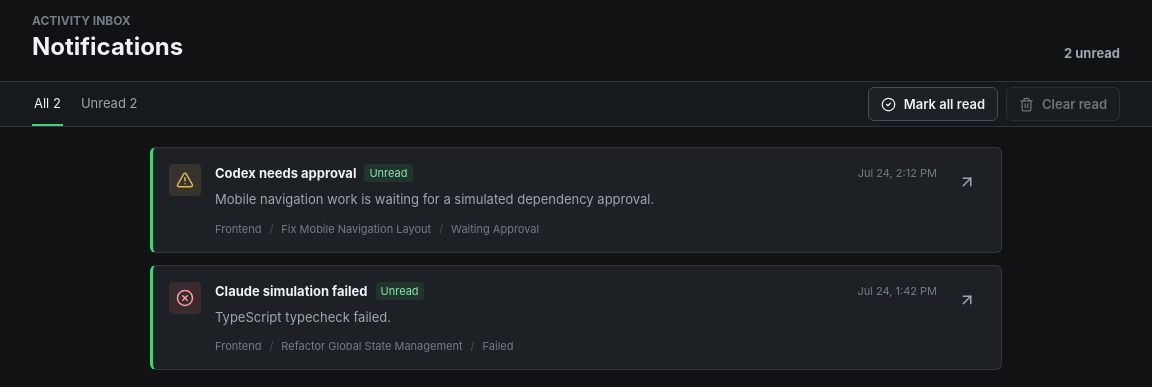
NotificationsPage › marks all read, clears read notifications, and persists both actions
expect the heading "Notifications" is shown: met, box [32,32,183,61]
Click the button "Mark all read".
click(933, 104)  # box [868,87,998,121]
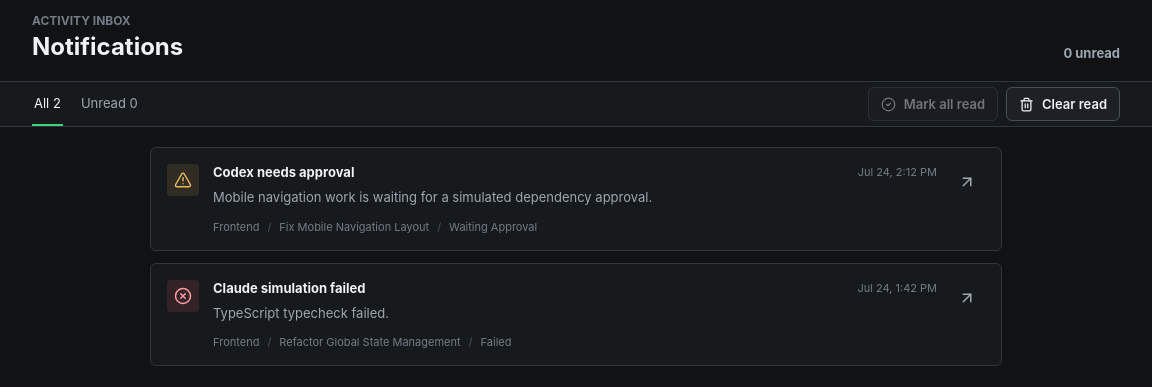
expect the text "0 unread" is shown: met, box [1063,45,1120,61]
Click the button "Clear read".
click(1063, 104)  # box [1006,87,1120,121]
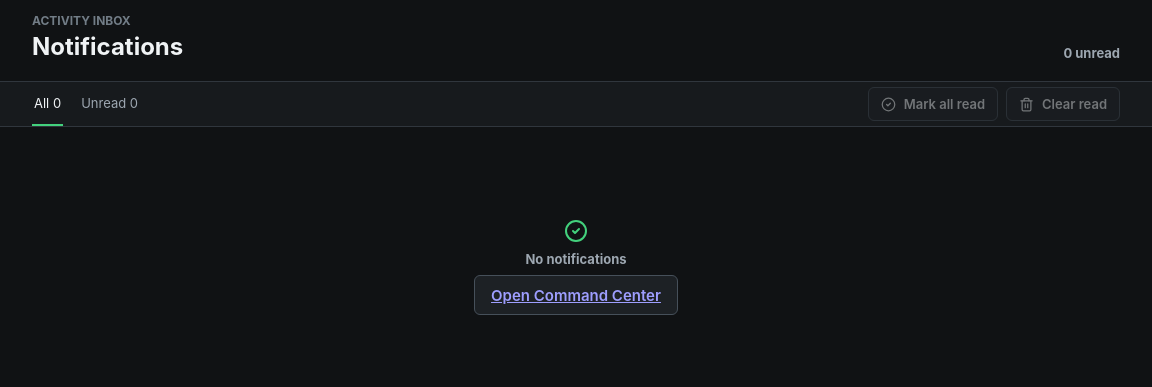
expect the text "No notifications" is shown: met, box [526,251,627,267]
